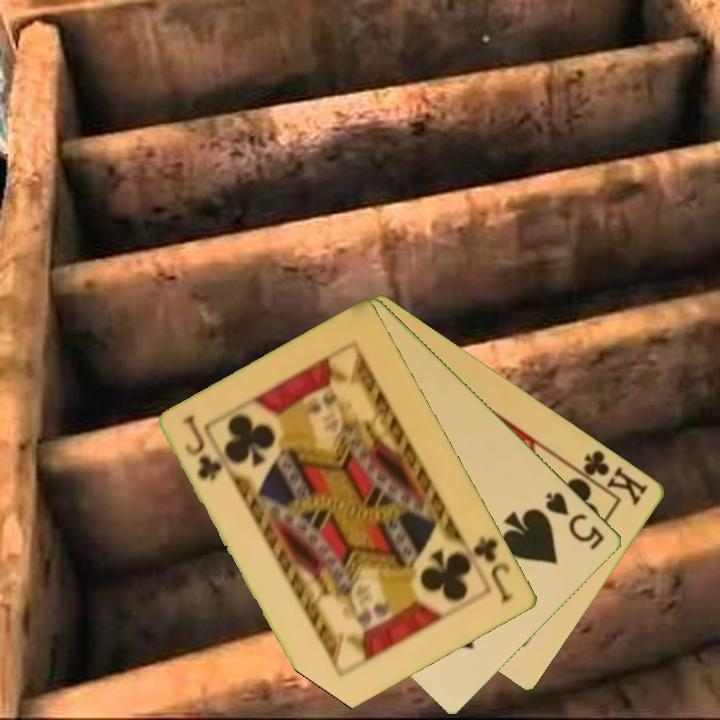5s: (542, 488, 608, 553)
Jc: (470, 532, 516, 605), (179, 412, 225, 485)
Kc: (571, 446, 652, 509)
